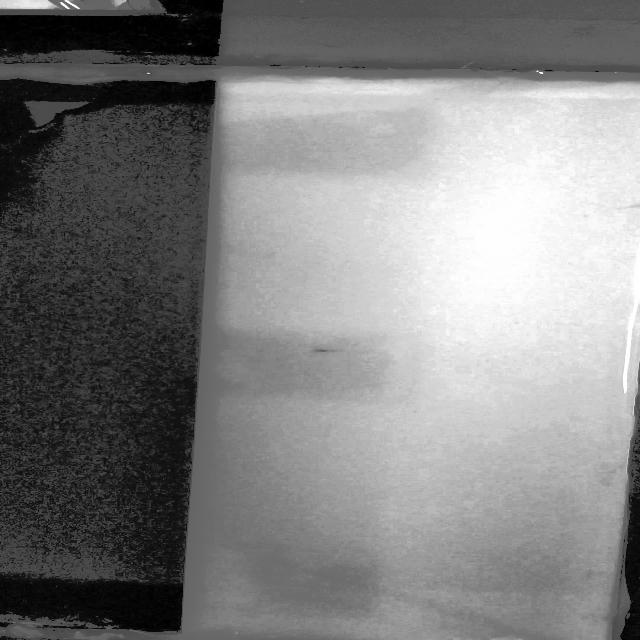shrimp: (304, 341, 346, 363)
